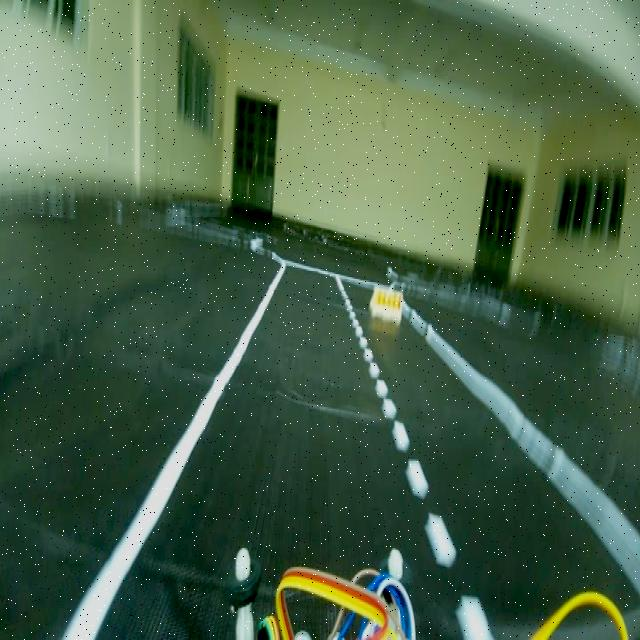roadblock: (363, 274, 407, 334)
